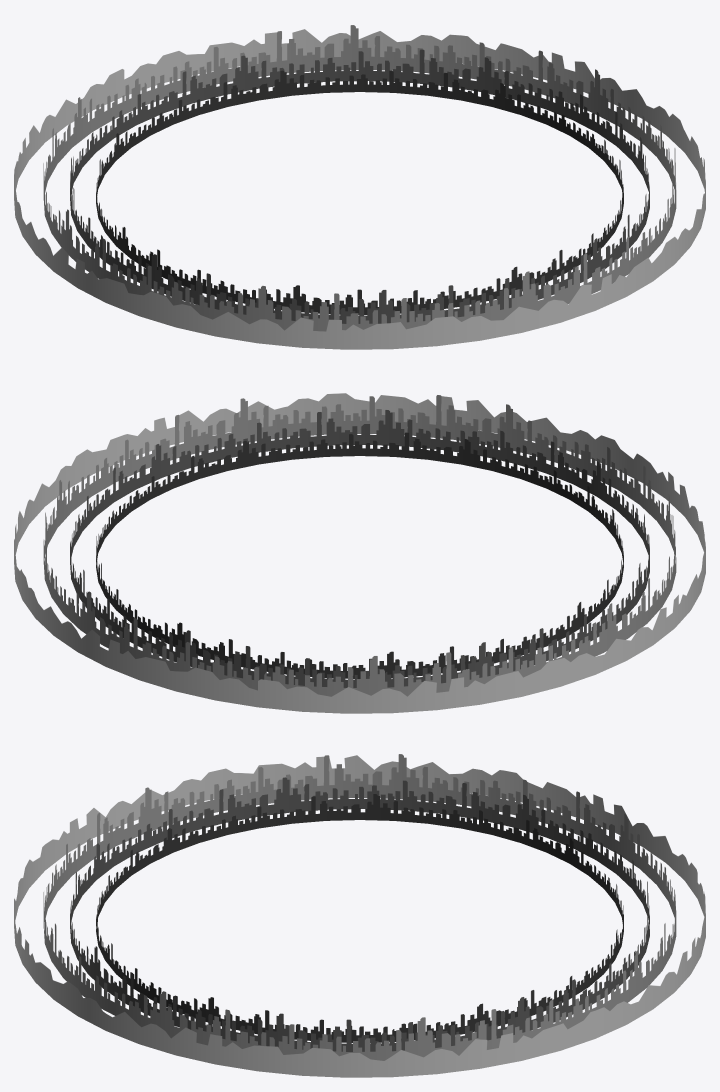
The model's file is SM_Env_Skykine.glb.
The picture shows the model from 3 angles, top to bottom: view 1: azimuth 30°, elevation 25°; view 2: azimuth 150°, elevation 25°; view 3: azimuth 270°, elevation 25°; orthographic projection.
Visible parts, largest first — view 1: SM_Env_Skyline_04, SM_Env_Skyline_02, SM_Env_Skyline_03, SM_Env_Skyline_01; view 2: SM_Env_Skyline_04, SM_Env_Skyline_02, SM_Env_Skyline_03, SM_Env_Skyline_01; view 3: SM_Env_Skyline_04, SM_Env_Skyline_02, SM_Env_Skyline_03, SM_Env_Skyline_01.
Part boxes in pixels (x1,y1,x2,y2): SM_Env_Skyline_04: (14, 29, 705, 349); SM_Env_Skyline_02: (43, 25, 676, 331); SM_Env_Skyline_03: (70, 49, 649, 323); SM_Env_Skyline_01: (96, 70, 623, 314); SM_Env_Skyline_04: (14, 393, 705, 713); SM_Env_Skyline_02: (43, 395, 676, 696); SM_Env_Skyline_03: (70, 410, 649, 687); SM_Env_Skyline_01: (96, 432, 623, 678); SM_Env_Skyline_04: (14, 755, 705, 1077); SM_Env_Skyline_02: (43, 754, 676, 1060); SM_Env_Skyline_03: (70, 777, 649, 1051); SM_Env_Skyline_01: (96, 794, 623, 1042).
Bounding box in the file's own units: 476 × 42.29 × 476.
1 material, 1 textured.
